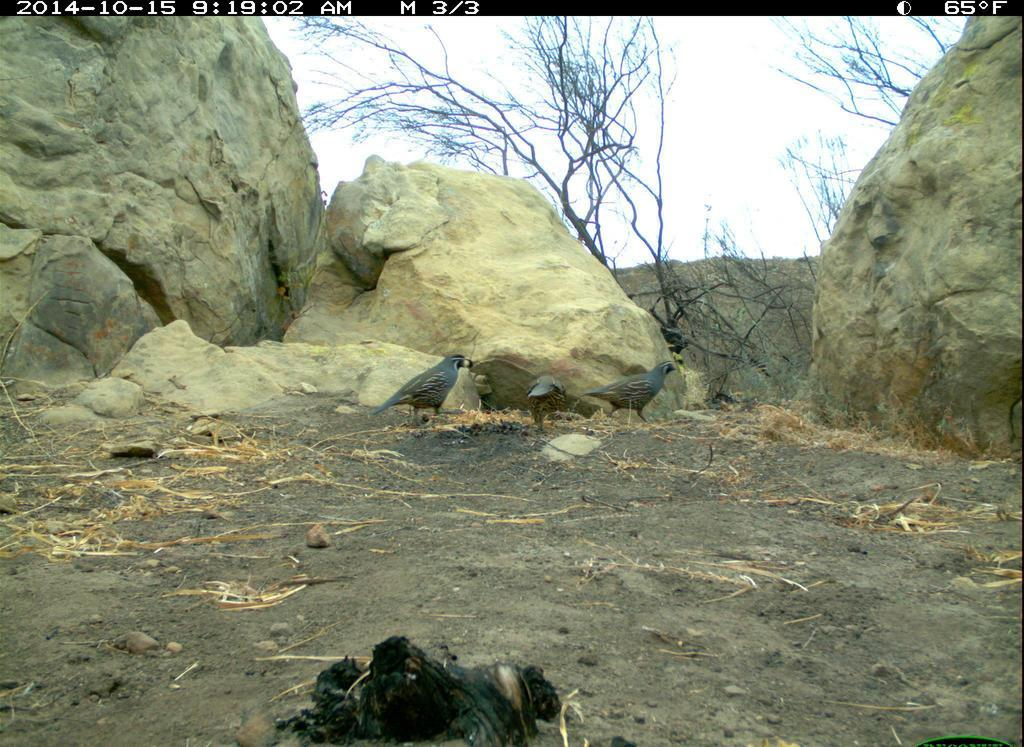bird: (373, 350, 483, 442), (586, 354, 692, 436), (515, 367, 565, 441)
